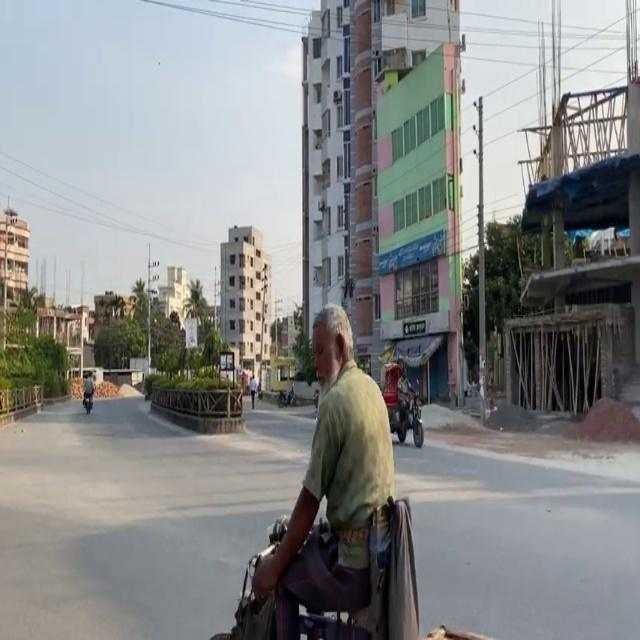Construction-barrier: (149, 402, 246, 434)
Fallen-tree: (388, 379, 424, 447), (277, 385, 296, 408), (81, 391, 94, 414)
Garbage: (503, 78, 639, 418)
Garbage-bin: (250, 303, 395, 638), (82, 371, 95, 414), (248, 375, 258, 409)
Pole: (149, 383, 243, 419)
